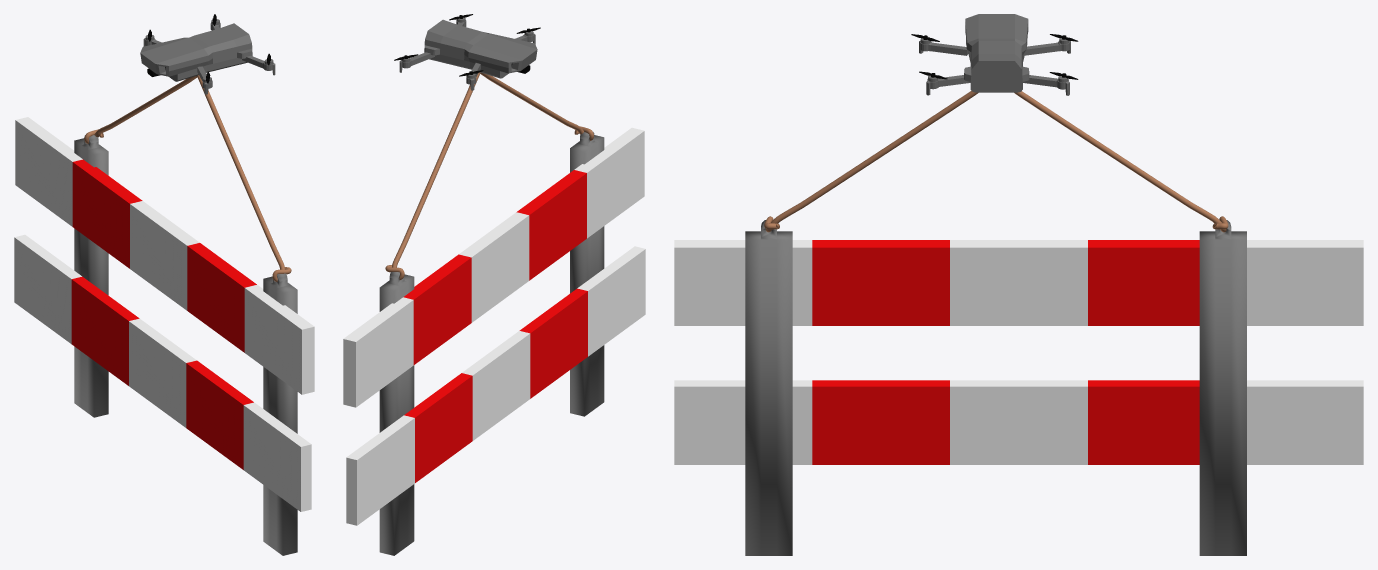
File: DroneRacingAirObstacleWhole.fbx
3 renders of one model, left to right at view 1: azimuth 30°, elevation 25°; view 2: azimuth 150°, elevation 25°; view 3: azimuth 270°, elevation 25°, orthographic. The views are drawn at different scales.
Visible parts, largest first — view 1: AirObstacle; view 2: AirObstacle; view 3: AirObstacle.
Part boxes in pixels (bbox=[...]): AirObstacle: bbox=[14, 14, 314, 555]; AirObstacle: bbox=[343, 14, 645, 555]; AirObstacle: bbox=[674, 14, 1363, 555].
Size of the model in its own units: 183 by 751 by 896.
